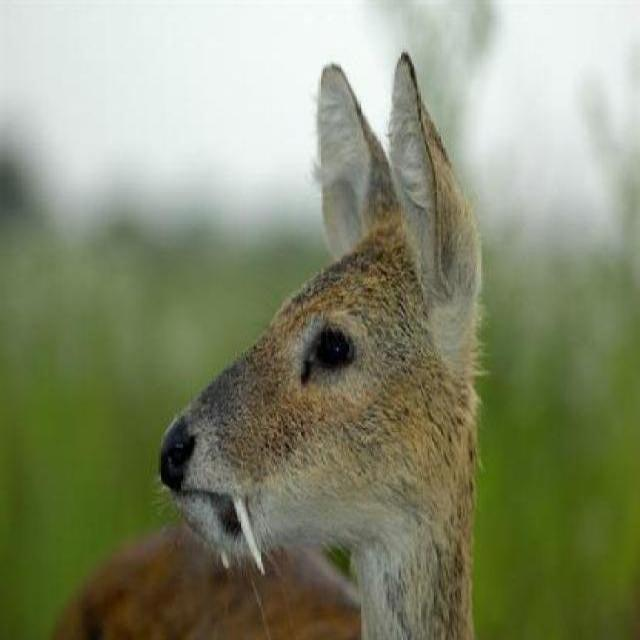deer: (158, 53, 560, 638)
